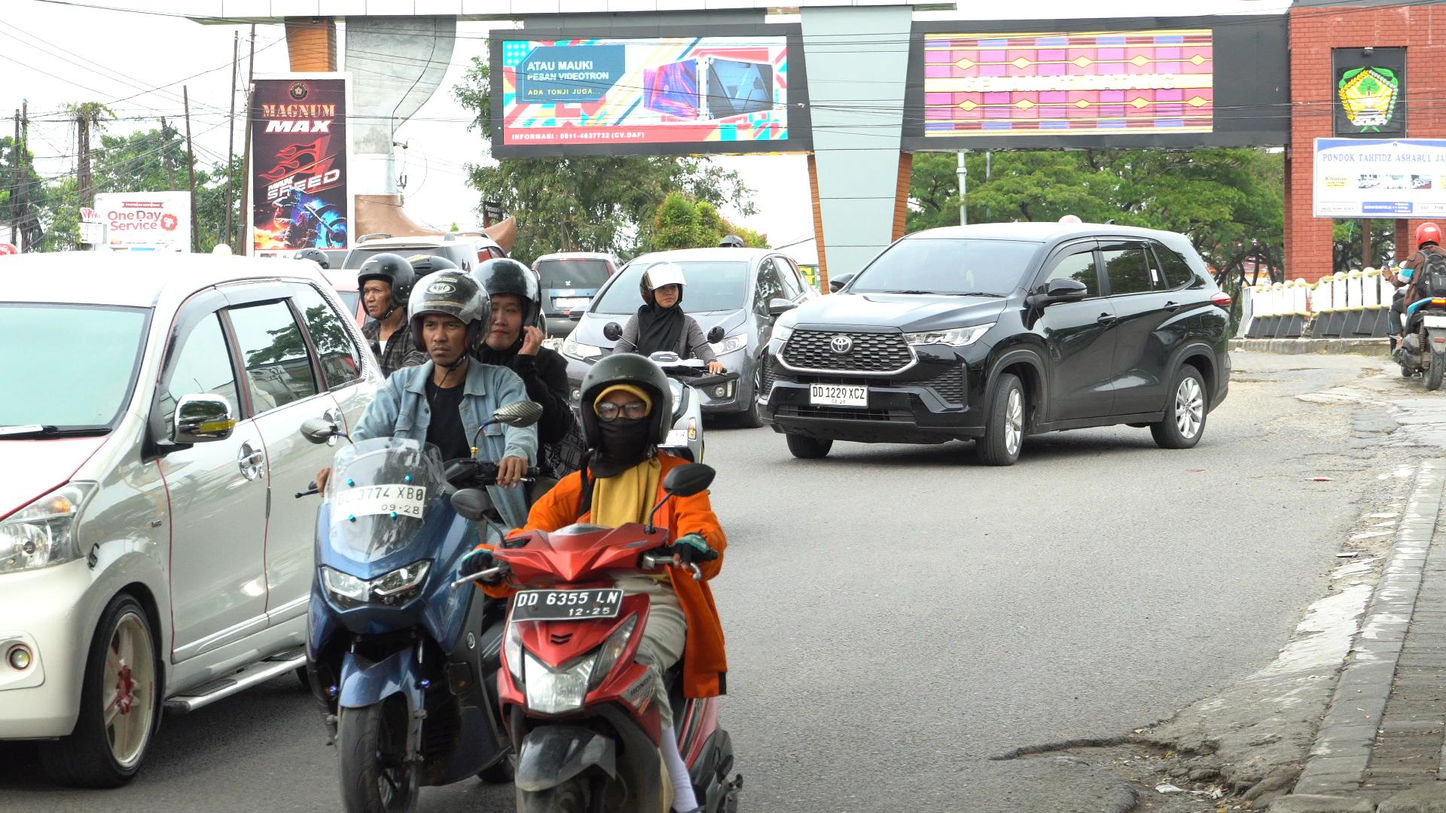number-plate: (509, 587, 623, 622), (328, 483, 424, 520), (806, 384, 868, 409)
